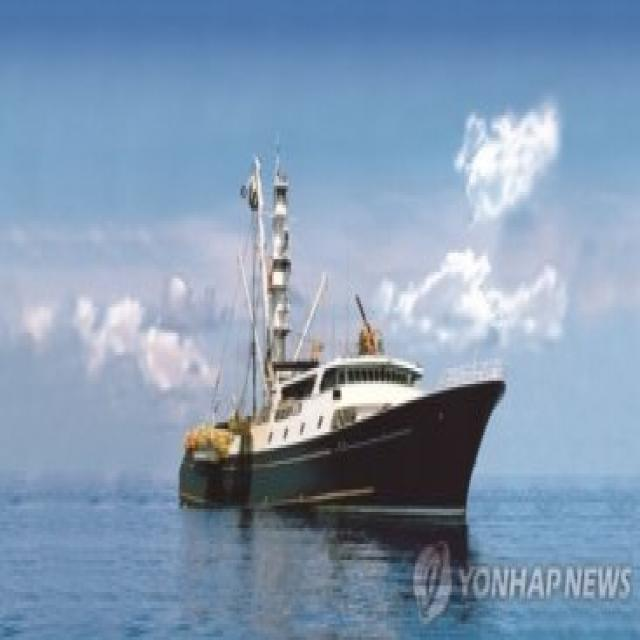Ship: (170, 120, 512, 552)
